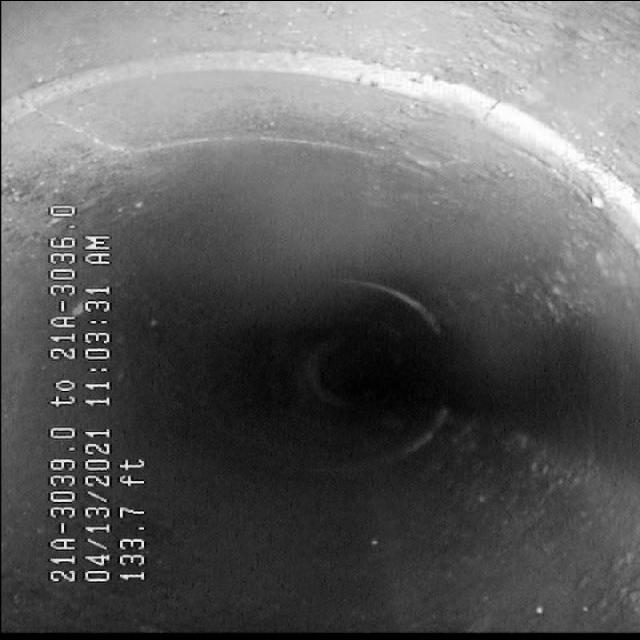Crack: (18, 102, 444, 155)
